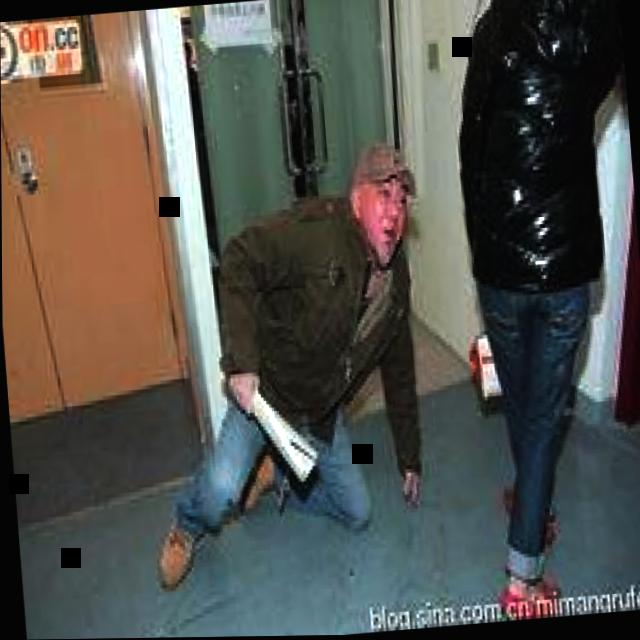Fall-Detected: (111, 141, 449, 583)
